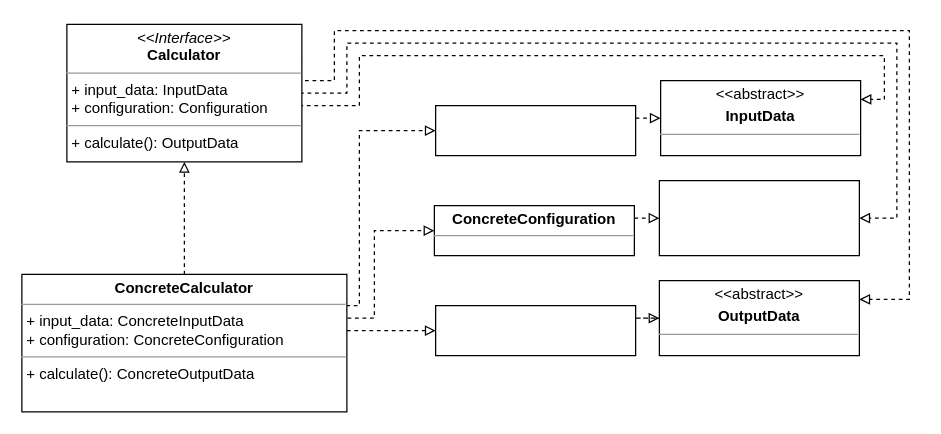
The diagram is 941 pixels wide and 434 high, and some of its shapes have lost their labels. Here are the shapes that lost their labels. From the top down, the box of each, then its label:
(434, 104, 636, 156): ConcreteInputData
(658, 179, 859, 256): <<abstract>> Configuration
(434, 304, 636, 356): ConcreteOutputData
